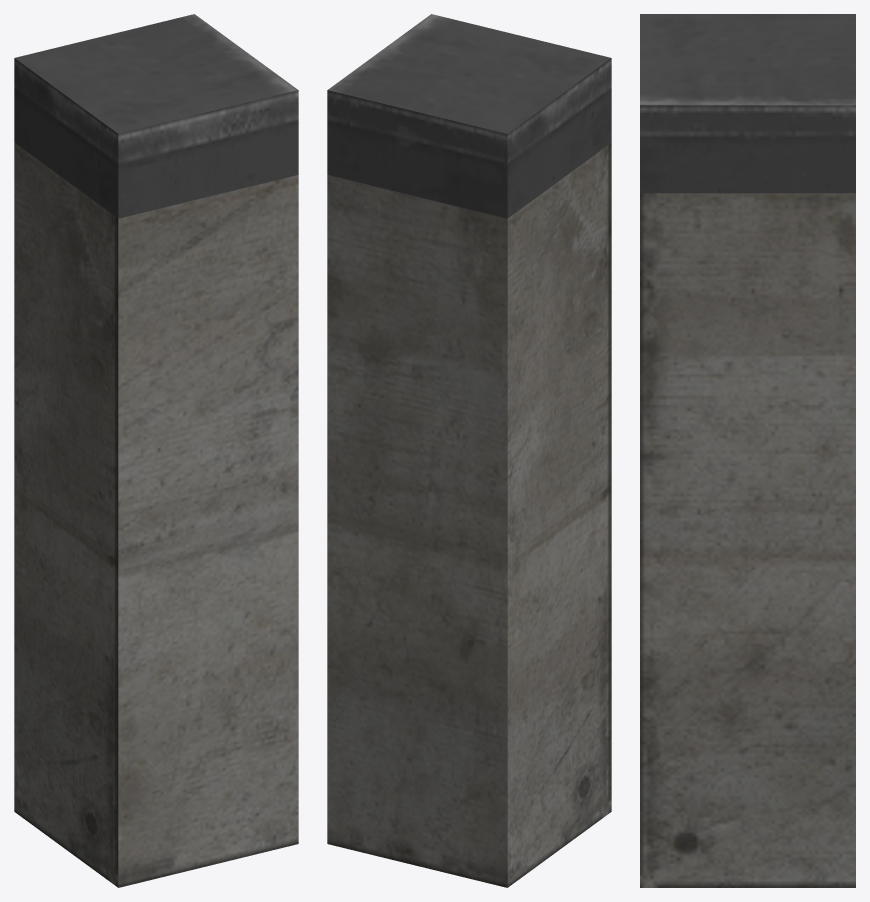
File: CP_Parapet_F_Angle_In.fbx
The picture shows the model from 3 angles, left to right: view 1: azimuth 30°, elevation 25°; view 2: azimuth 150°, elevation 25°; view 3: azimuth 270°, elevation 25°; orthographic projection. The views are drawn at different scales.
Parts seen in each view (by area): view 1: CP_Parapet_F_Angle_In; view 2: CP_Parapet_F_Angle_In; view 3: CP_Parapet_F_Angle_In.
Boxes of the visible parts, x1=… form: CP_Parapet_F_Angle_In: x1=14, y1=14, x2=298, y2=887; CP_Parapet_F_Angle_In: x1=327, y1=14, x2=611, y2=887; CP_Parapet_F_Angle_In: x1=640, y1=14, x2=855, y2=887.
Size of the model in its own units: 25 by 100 by 25.
